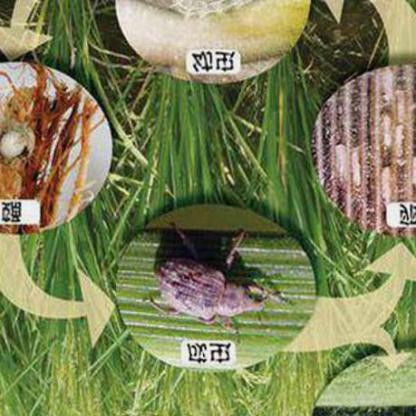rice-bug: (153, 237, 274, 331)
